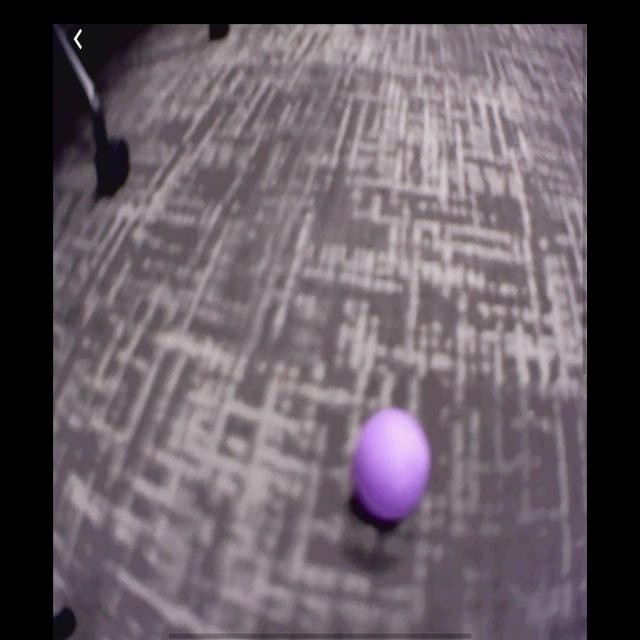ball: (351, 407, 433, 526)
